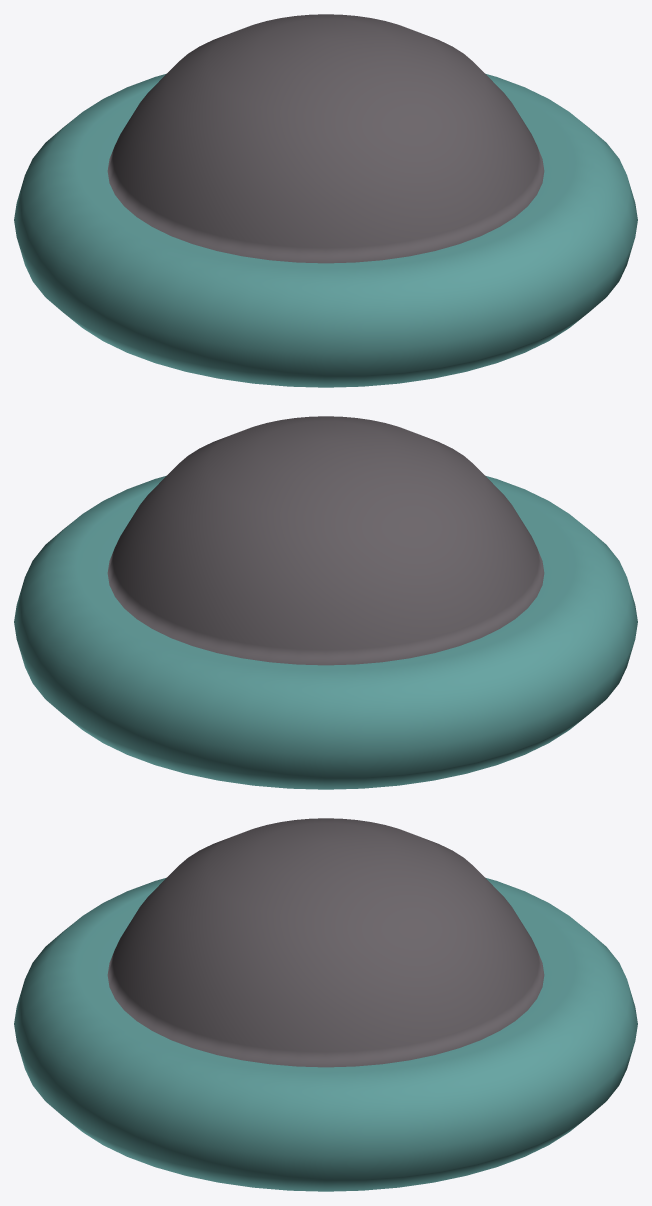
Rendered from UnidentifiedFlyingObject.fbx.
3 renders of one model, top to bottom at view 1: azimuth 30°, elevation 25°; view 2: azimuth 150°, elevation 25°; view 3: azimuth 270°, elevation 25°, orthographic.
Visible parts, largest first — view 1: Torus; view 2: Torus; view 3: Torus.
Part boxes in pixels (x1,y1,x2,y2): Torus: (14, 14, 637, 387); Torus: (14, 416, 637, 789); Torus: (14, 818, 637, 1191).
Bounding box in the file's own units: 25 × 11.62 × 25.
